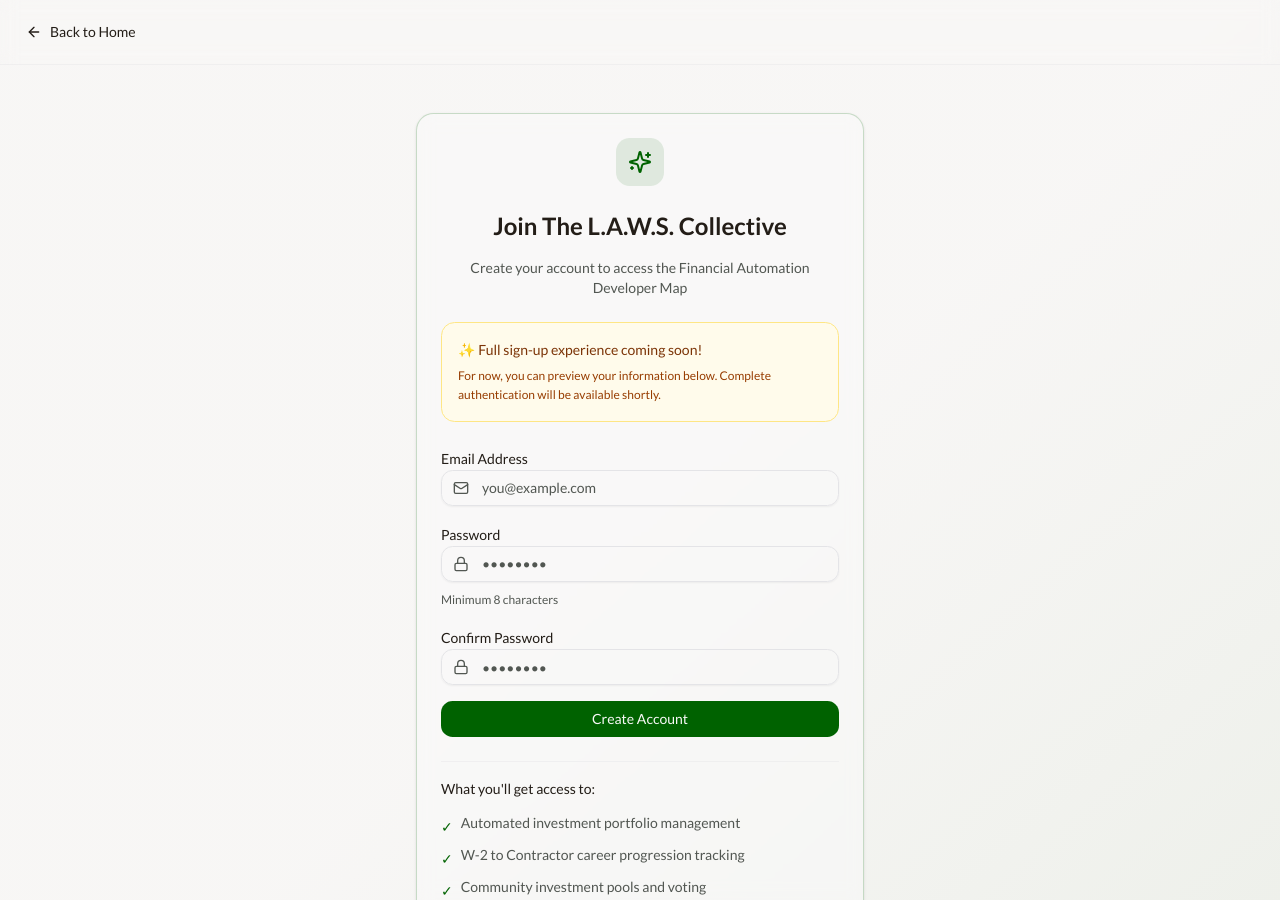
Test case: SignUp Page Component › Button States › should disable inputs while submitting
Type "test@example.com" into the field with placeholder "you@example.com" at (640, 488), box [441,470,839,506]
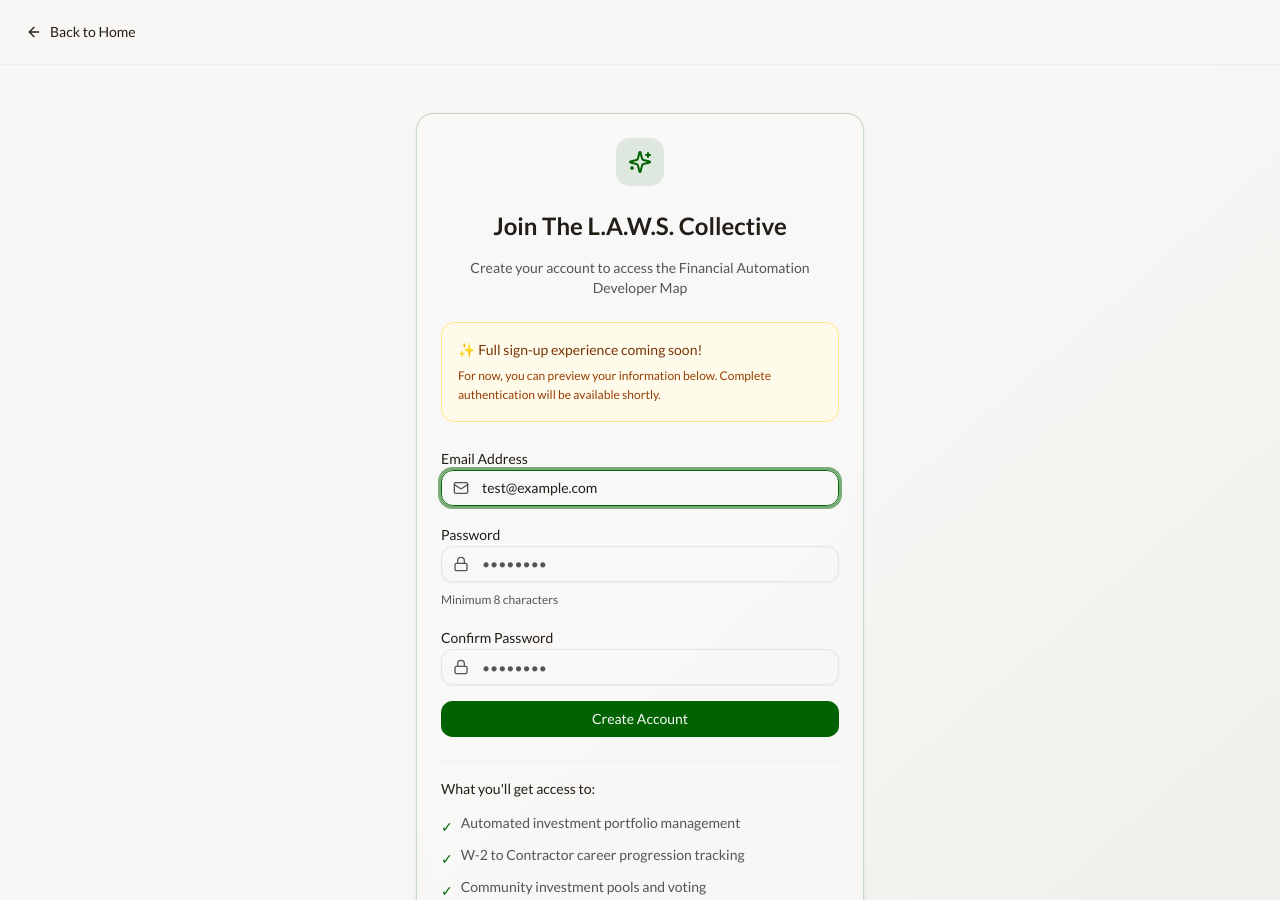
Type "Password123" into the password field with placeholder "••••••••" at (640, 564), box [441,546,839,582]
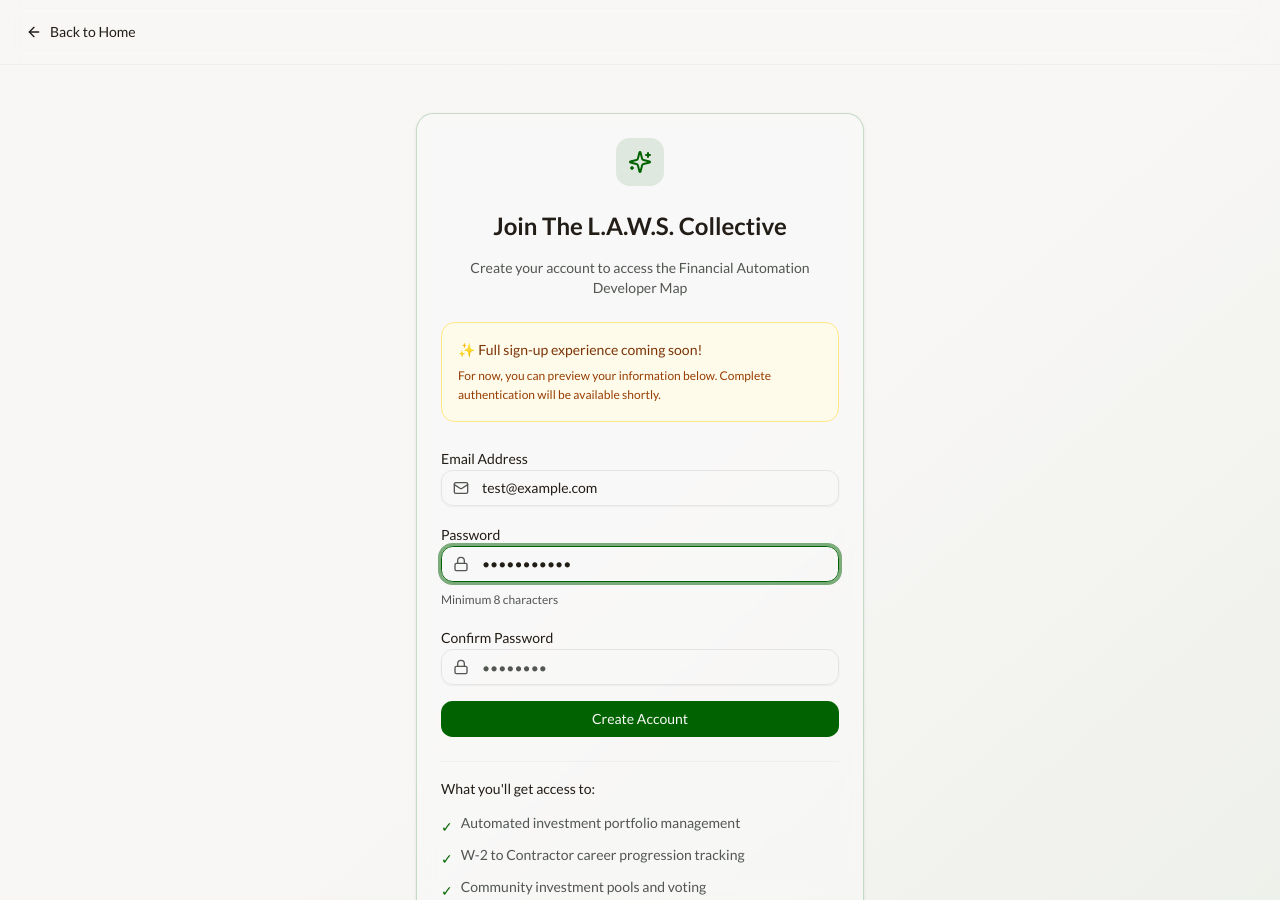
Type "Password123" into the password field with placeholder "••••••••" at (640, 667), box [441,649,839,685]
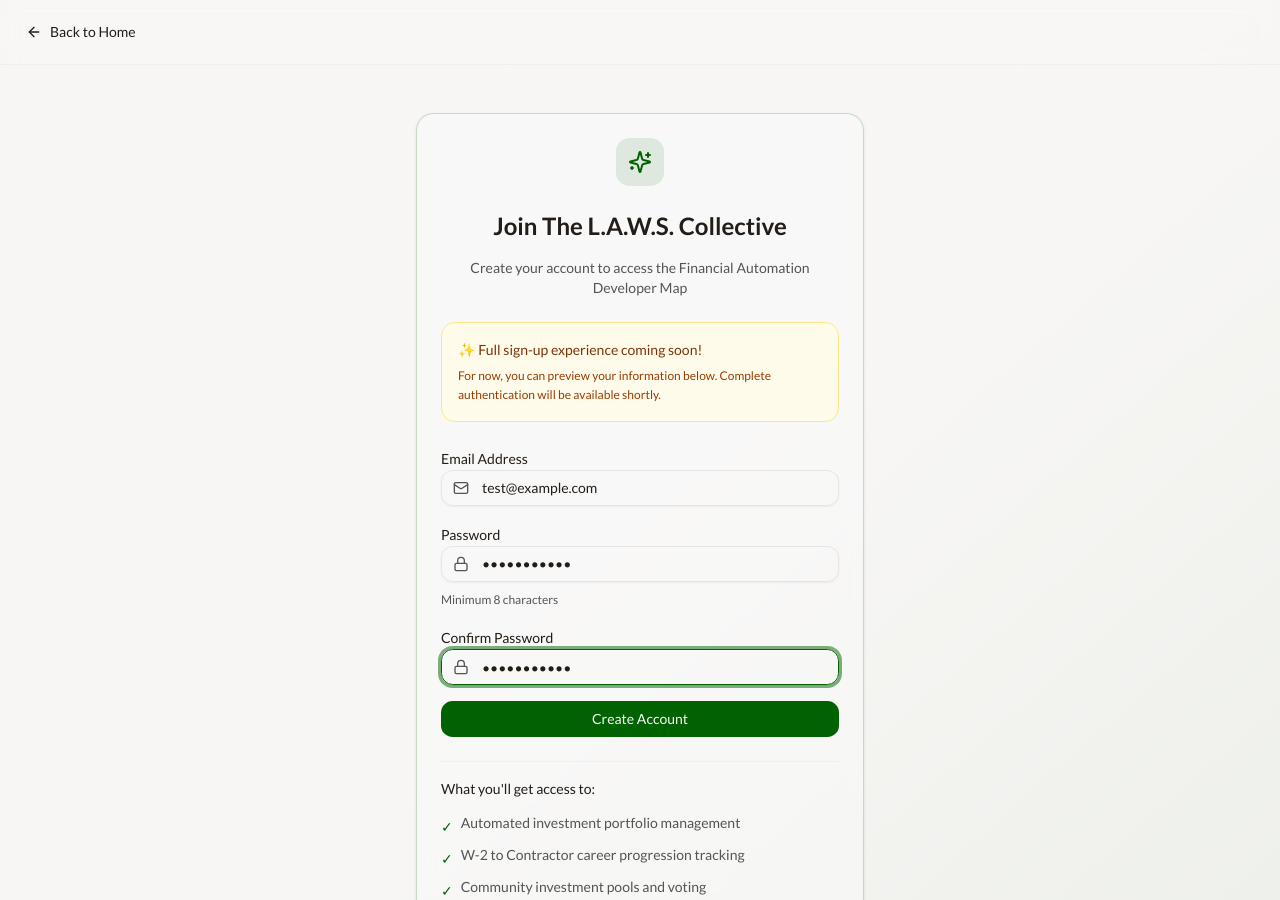
Click the button "Create Account" at (640, 719), box [441,701,839,737]
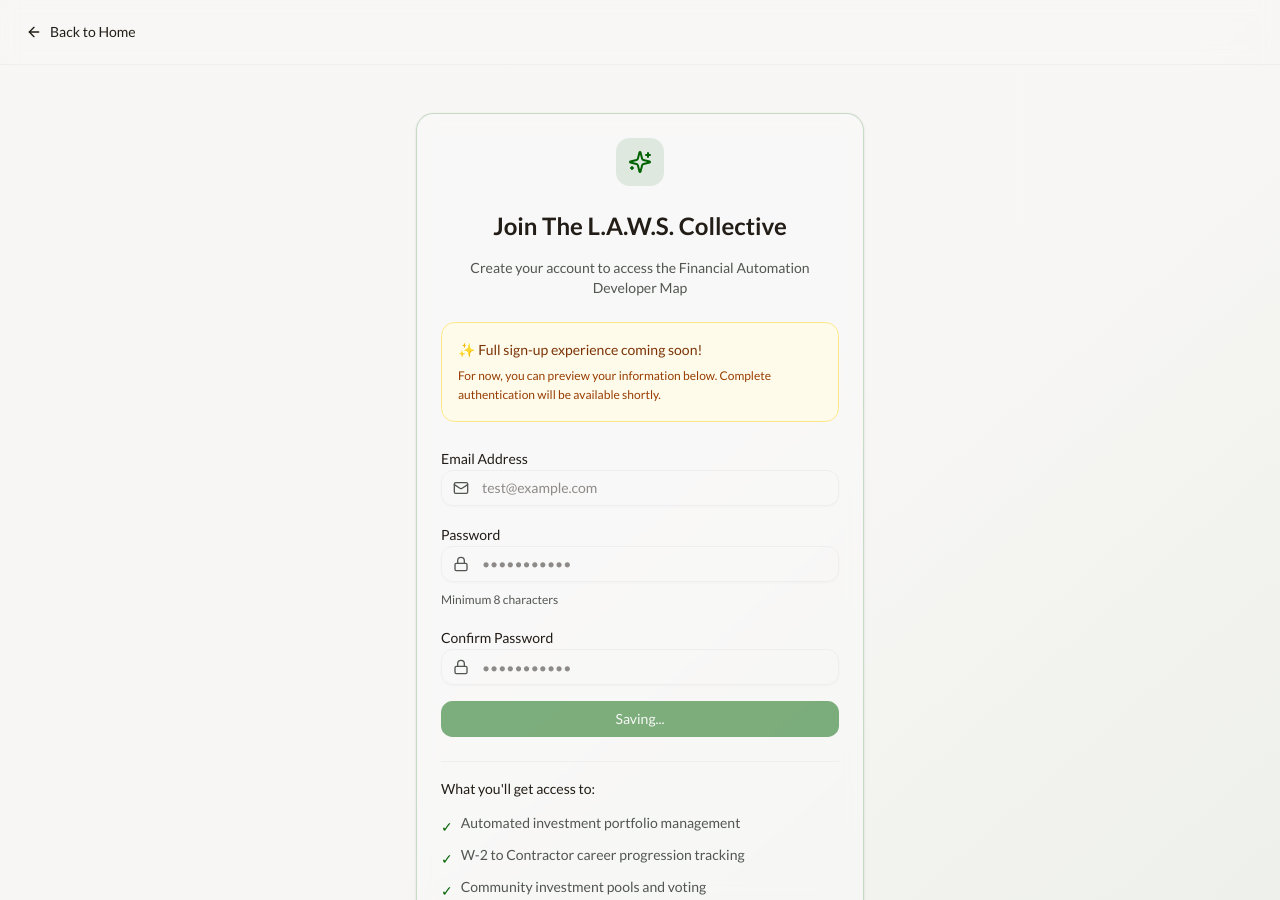
Result: the button "Create Account" reads "Saving..." at [441,701,839,737]
